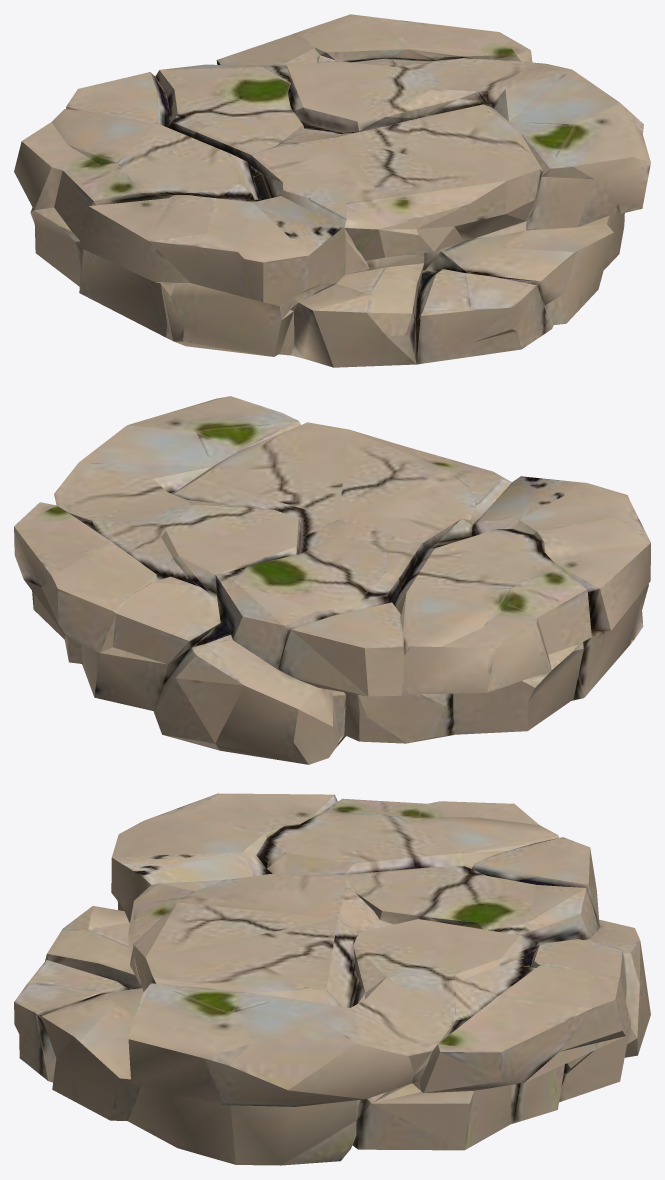
The model's file is FlatRock.lod1.glb.
3 renders of one model, top to bottom at view 1: azimuth 30°, elevation 25°; view 2: azimuth 150°, elevation 25°; view 3: azimuth 270°, elevation 25°, orthographic. The views are drawn at different scales.
Bounding box in the file's own units: 1.18 × 0.2506 × 1.16.
1 material, 1 textured.
